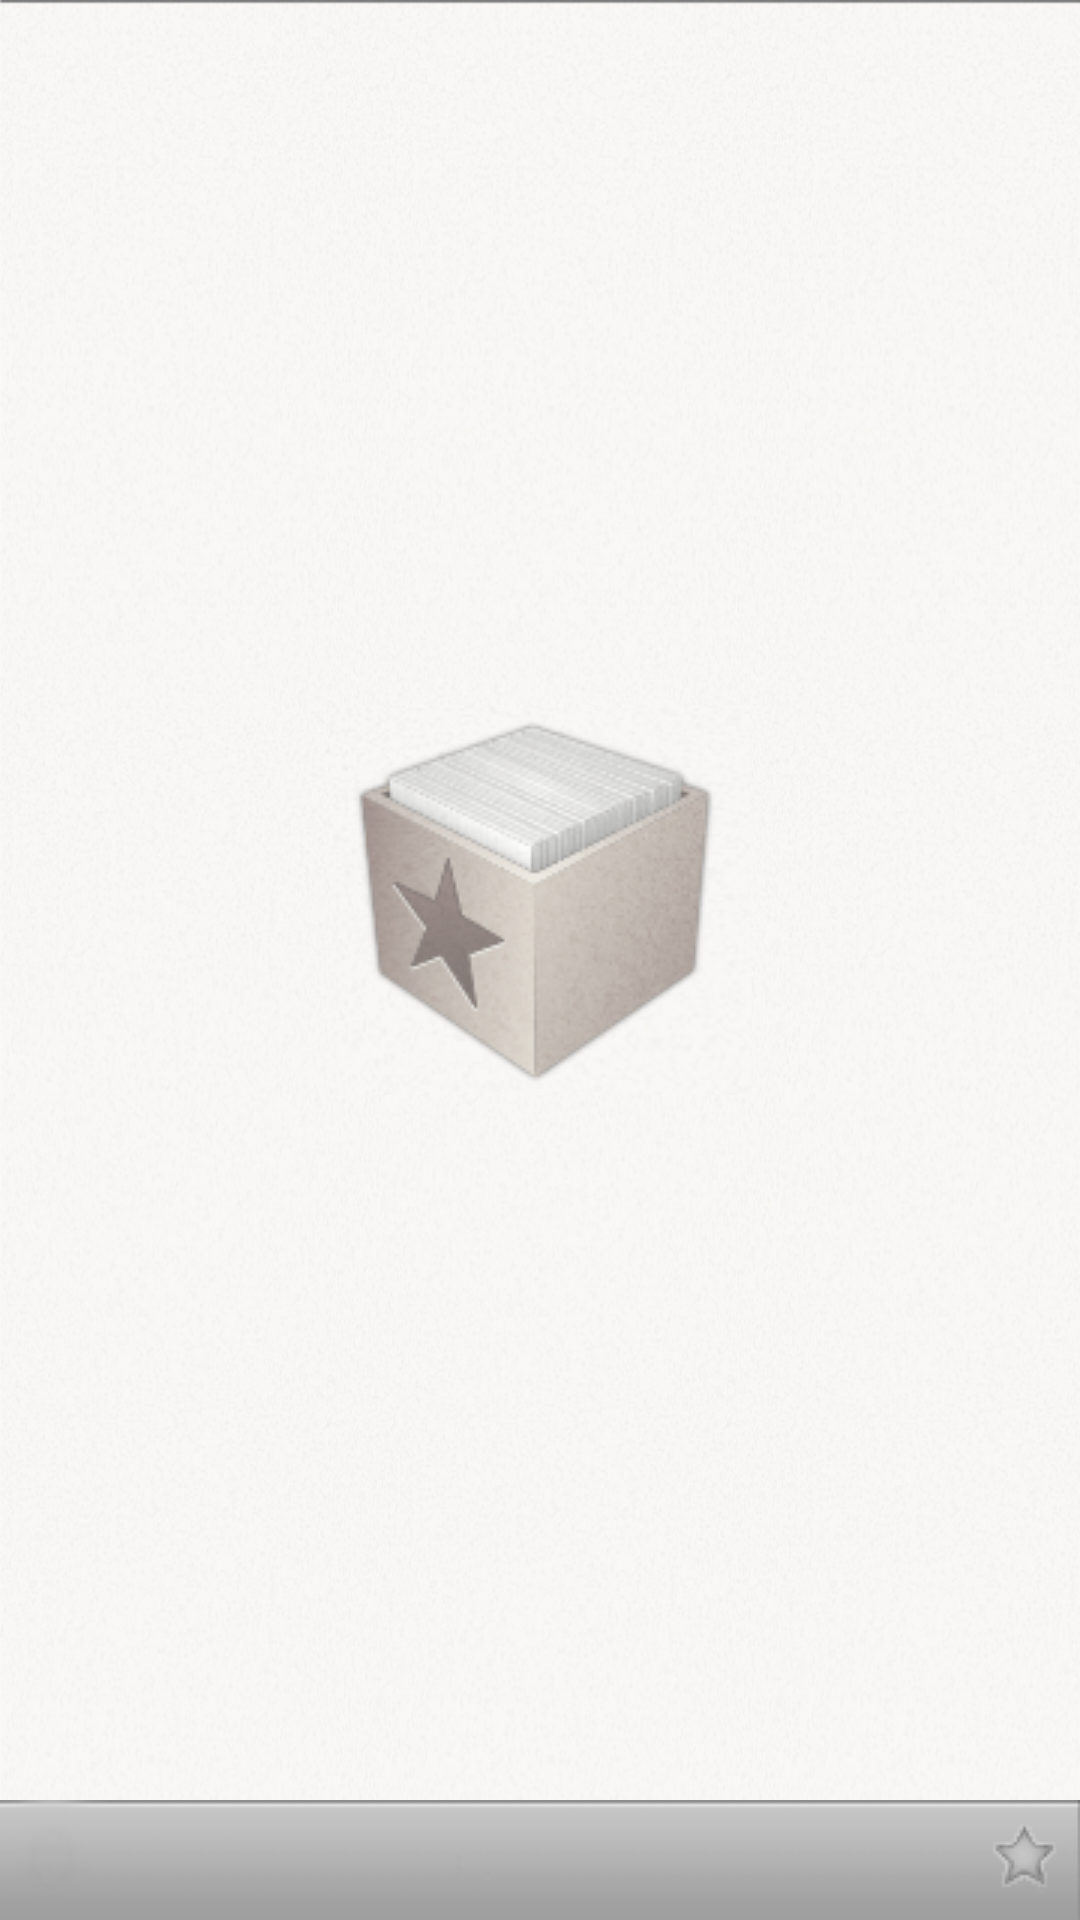

Named icons in this screenshot (1080px x 1920px) and their centers, (x=x, y=y):
setstarr: (x=1026, y=1854)
